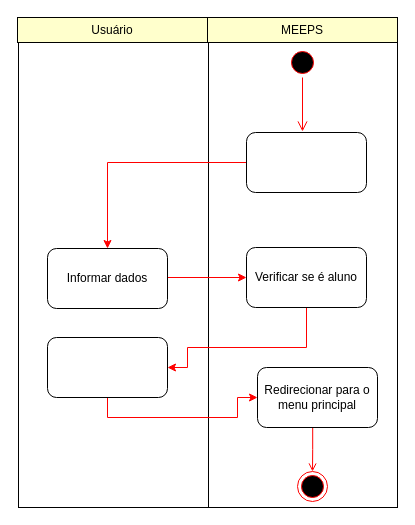
Some shapes in this 415 by 525 pixel diagram are drawn without their labels. The box of each missing label's shape, as (x1, y1, x2, y2) in pixels:
Apresentar tela de login: (246, 132, 366, 192)
Selecionar Cadastrar: (46, 336, 168, 398)
